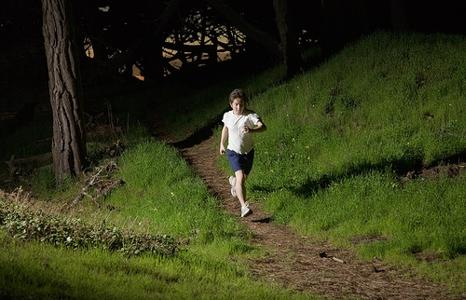person: (220, 88, 267, 220)
